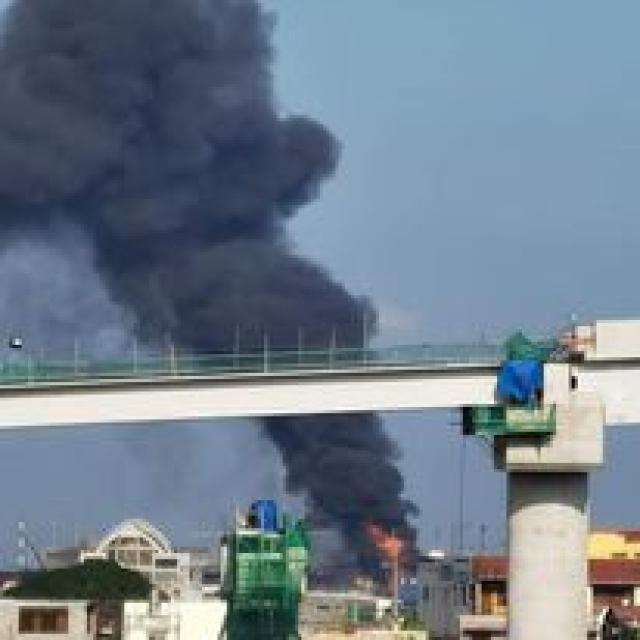Smoke: (2, 0, 425, 518)
